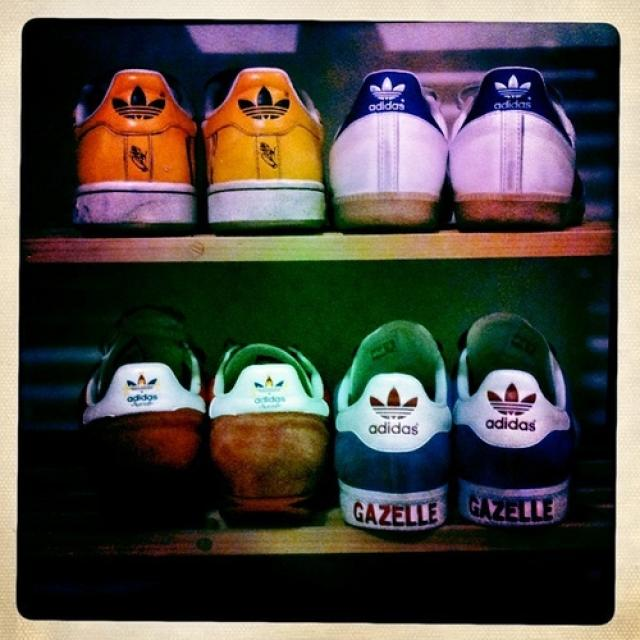adidas: (477, 381, 549, 440), (365, 387, 433, 442), (235, 83, 299, 129), (111, 83, 174, 125), (489, 72, 543, 113), (244, 375, 302, 413), (367, 78, 417, 119), (122, 372, 168, 411)
